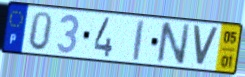0: (28, 10, 54, 52)
3: (55, 12, 81, 56)
4: (93, 16, 114, 59)
I: (132, 18, 146, 63)
N: (155, 21, 192, 67)
V: (191, 24, 221, 69)
